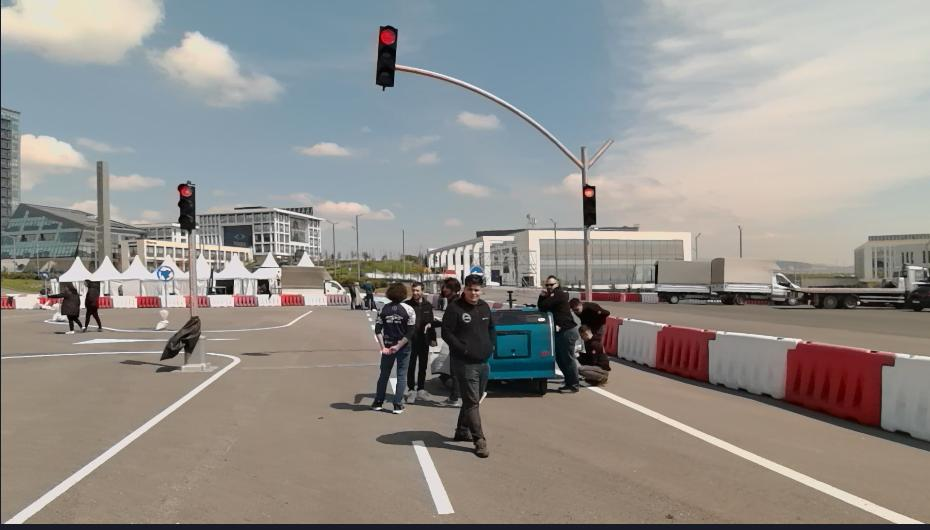nesne: (4, 305, 927, 530), (3, 305, 457, 524), (400, 358, 927, 527), (587, 384, 925, 523), (600, 314, 928, 445), (4, 349, 243, 523), (438, 272, 491, 454), (787, 339, 888, 426), (483, 288, 555, 394), (533, 271, 584, 392), (803, 261, 928, 310), (368, 279, 414, 410), (709, 331, 788, 401), (401, 280, 442, 405), (708, 255, 805, 306), (877, 355, 928, 444), (657, 324, 713, 384), (412, 437, 454, 515), (201, 307, 316, 332), (613, 314, 661, 371), (650, 257, 710, 302), (45, 281, 87, 333), (576, 321, 608, 384), (280, 266, 347, 295), (571, 296, 611, 343), (0, 348, 164, 358), (376, 21, 398, 89), (82, 276, 104, 332), (99, 294, 190, 307), (177, 182, 197, 232), (601, 315, 623, 356), (74, 337, 168, 344), (582, 184, 596, 226), (348, 279, 365, 309), (363, 277, 377, 312), (105, 325, 175, 331), (208, 293, 235, 305), (15, 294, 38, 308), (112, 295, 136, 308), (233, 293, 257, 306), (157, 265, 175, 281), (137, 296, 160, 308), (305, 294, 328, 306), (327, 293, 350, 305), (257, 296, 283, 306), (279, 295, 305, 305), (162, 295, 182, 307), (0, 296, 15, 310), (97, 297, 112, 308), (196, 295, 207, 306), (183, 296, 191, 307)
